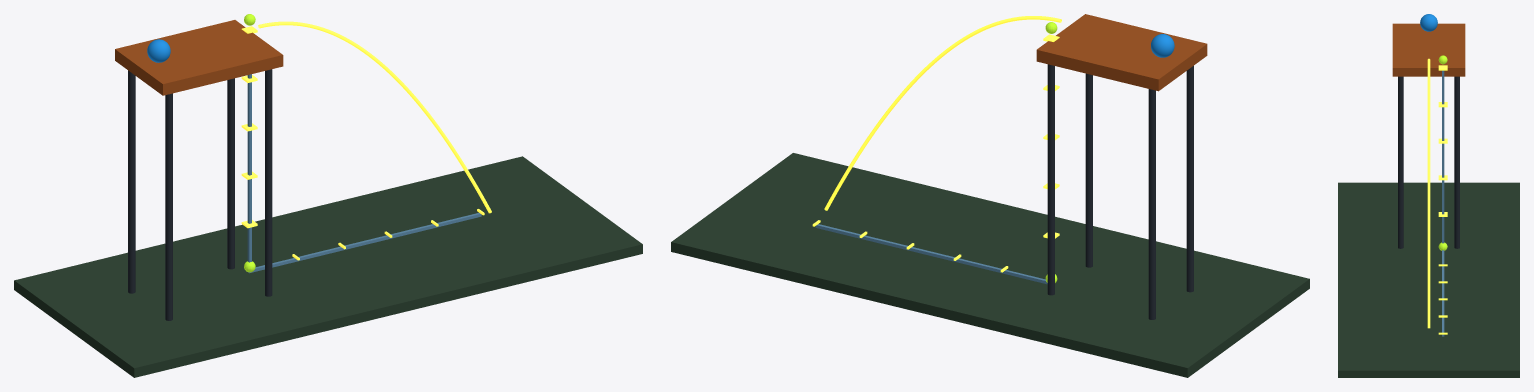
The model's file is bai4_nem_ngang.glb.
3 views of the same model, side by side, from view 1: azimuth 30°, elevation 25°; view 2: azimuth 150°, elevation 25°; view 3: azimuth 270°, elevation 25° (orthographic). The views are drawn at different scales.
Parts seen in each view (by area): view 1: Khối Lập Phương, Khối Lập Phương.001, Hình Trụ.002, Hình Trụ, Hình Trụ.001, Hình Trụ.003, Parabola_Trajectory, Khối Lập Phương.003, Khối Lập Phương.002; view 2: Khối Lập Phương, Khối Lập Phương.001, Hình Trụ.003, Hình Trụ.001, Hình Trụ, Hình Trụ.002, Parabola_Trajectory, Khối Lập Phương.003; view 3: Khối Lập Phương, Khối Lập Phương.001, Parabola_Trajectory, Hình Trụ.002, Hình Trụ.003, Khối Lập Phương.002, Hình Cầu, Khối Lập Phương.003.
Boxes of the visible parts, x1,y1,x2,y2 form: Khối Lập Phương: (14, 156, 642, 377); Khối Lập Phương.001: (115, 20, 283, 95); Hình Trụ.002: (265, 69, 272, 296); Hình Trụ: (165, 93, 172, 320); Hình Trụ.001: (128, 70, 135, 293); Hình Trụ.003: (227, 78, 234, 269); Parabola_Trajectory: (258, 21, 491, 213); Khối Lập Phương.003: (250, 213, 481, 272); Khối Lập Phương.002: (247, 74, 251, 273); Khối Lập Phương: (671, 153, 1309, 377); Khối Lập Phương.001: (1036, 14, 1207, 91); Hình Trụ.003: (1047, 64, 1054, 295); Hình Trụ.001: (1148, 89, 1155, 319); Hình Trụ: (1186, 66, 1193, 292); Hình Trụ.002: (1085, 73, 1092, 267); Parabola_Trajectory: (824, 16, 1061, 210); Khối Lập Phương.003: (815, 224, 1047, 284); Khối Lập Phương: (1338, 182, 1519, 377); Khối Lập Phương.001: (1392, 23, 1465, 76); Parabola_Trajectory: (1427, 58, 1430, 328); Hình Trụ.002: (1398, 76, 1403, 248); Hình Trụ.003: (1454, 76, 1459, 248); Khối Lập Phương.002: (1442, 70, 1444, 243); Hình Cầu: (1420, 14, 1437, 31); Khối Lập Phương.003: (1442, 250, 1444, 336).
Bounding box in the file's own units: 11 × 5.64 × 4.5.
